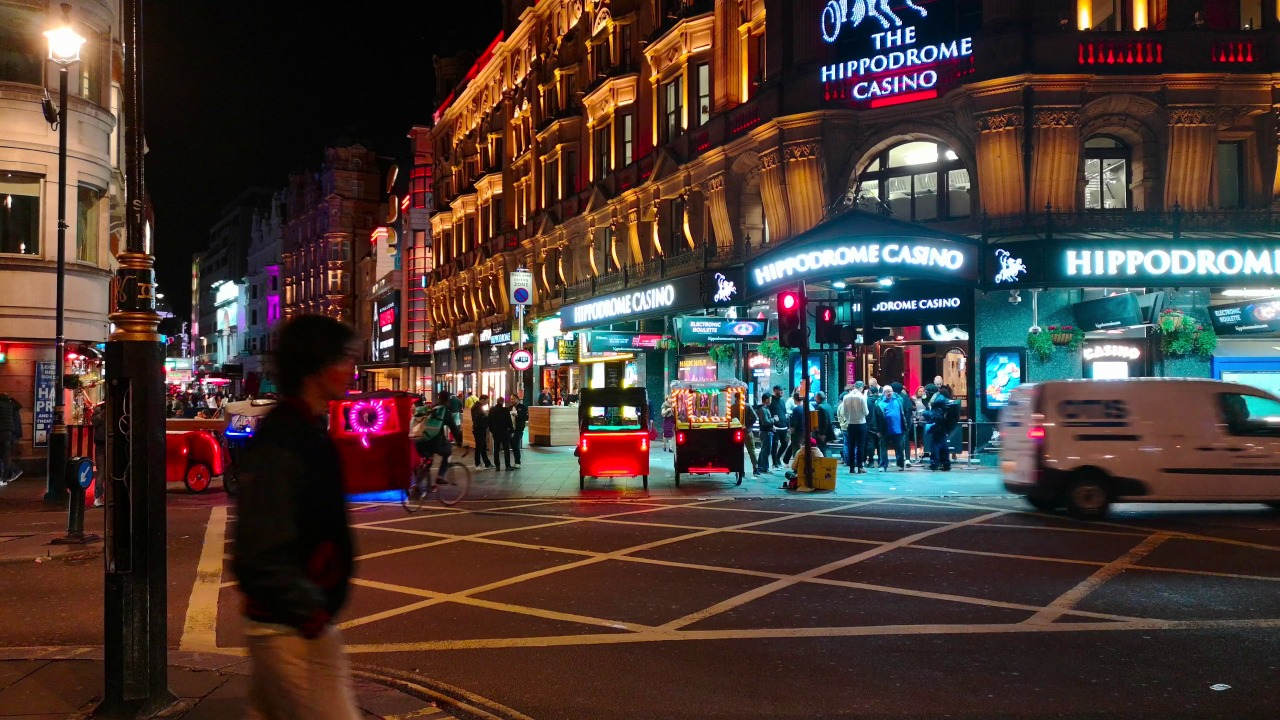car: (1002, 384, 1278, 503), (586, 390, 647, 487), (681, 395, 734, 475), (339, 404, 398, 474), (210, 394, 269, 440), (163, 415, 200, 473)
person: (252, 335, 355, 718), (1, 371, 35, 496), (922, 382, 962, 480), (424, 401, 458, 496), (789, 444, 837, 489), (881, 385, 906, 466), (847, 387, 869, 464), (470, 397, 492, 461), (495, 403, 511, 478), (519, 391, 530, 477), (745, 403, 755, 484), (816, 390, 836, 426), (661, 397, 671, 458), (776, 389, 789, 425), (765, 393, 772, 459), (932, 371, 946, 381), (913, 386, 920, 398)
